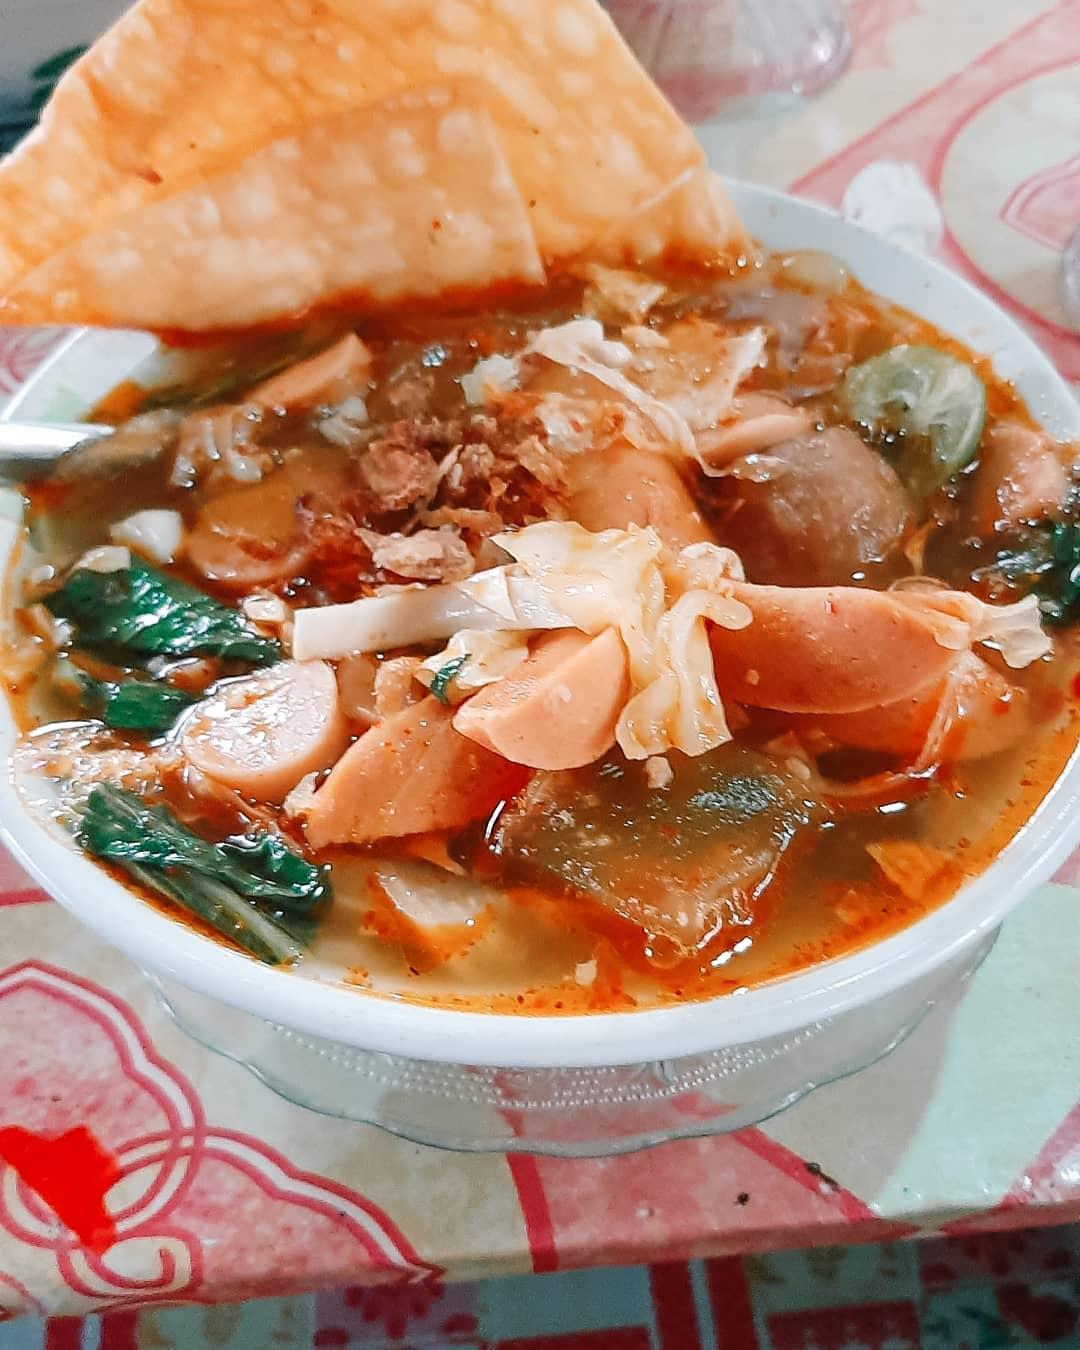seblak: (9, 249, 1080, 1014)
